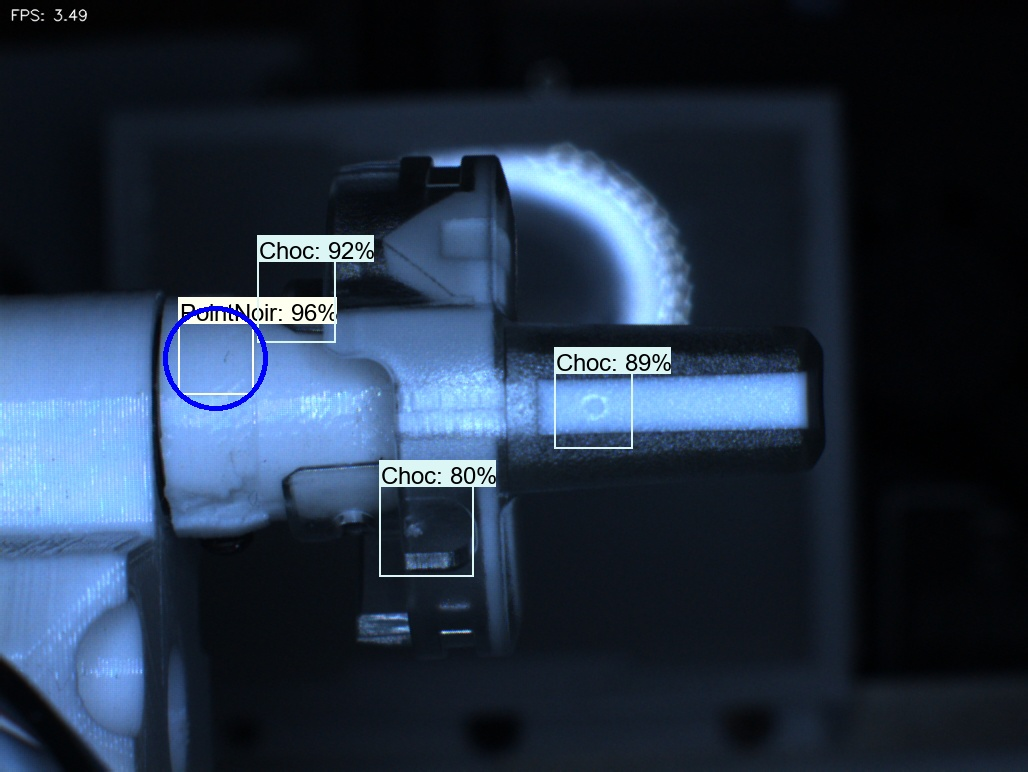DentOk: (362, 209, 430, 284)
